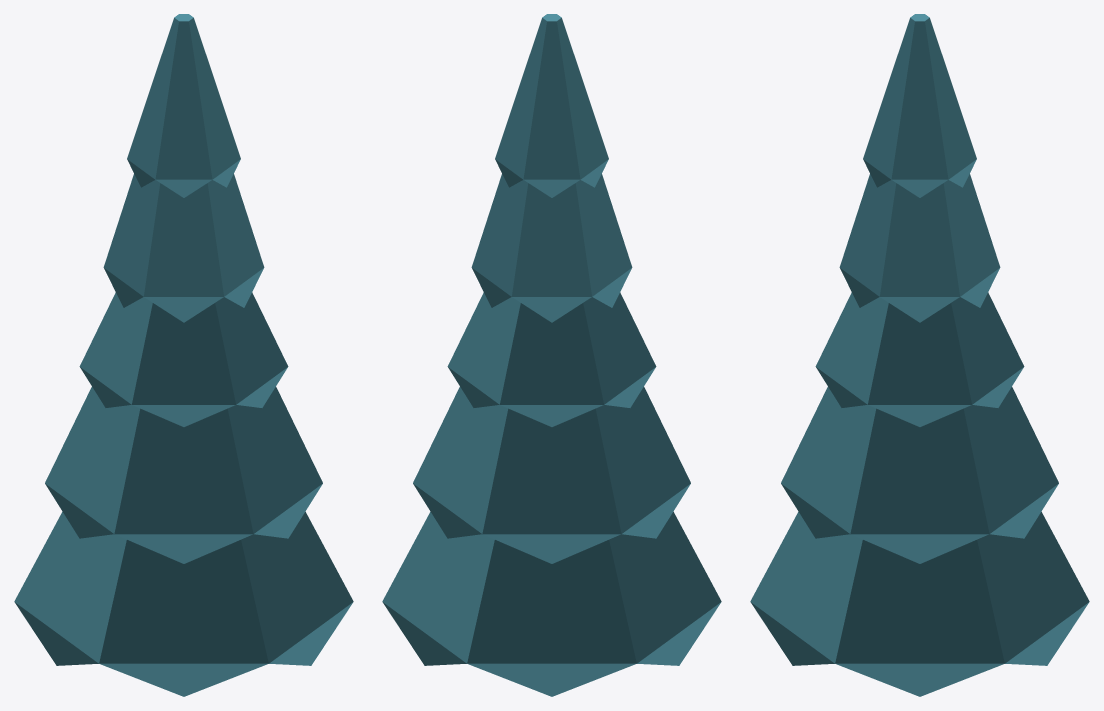
Rendered from tree_pineSmall_round3.obj.
The picture shows the model from 3 angles, left to right: view 1: azimuth 30°, elevation 25°; view 2: azimuth 150°, elevation 25°; view 3: azimuth 270°, elevation 25°; orthographic projection.
Visible parts, largest first — view 1: tree_pineSmall_round3; view 2: tree_pineSmall_round3; view 3: tree_pineSmall_round3.
Boxes of the visible parts, x1,y1,x2,y2 form: tree_pineSmall_round3: [14, 14, 353, 696]; tree_pineSmall_round3: [382, 14, 721, 696]; tree_pineSmall_round3: [750, 14, 1089, 696].
Bounding box in the file's own units: 4.8 × 11.13 × 5.55.
